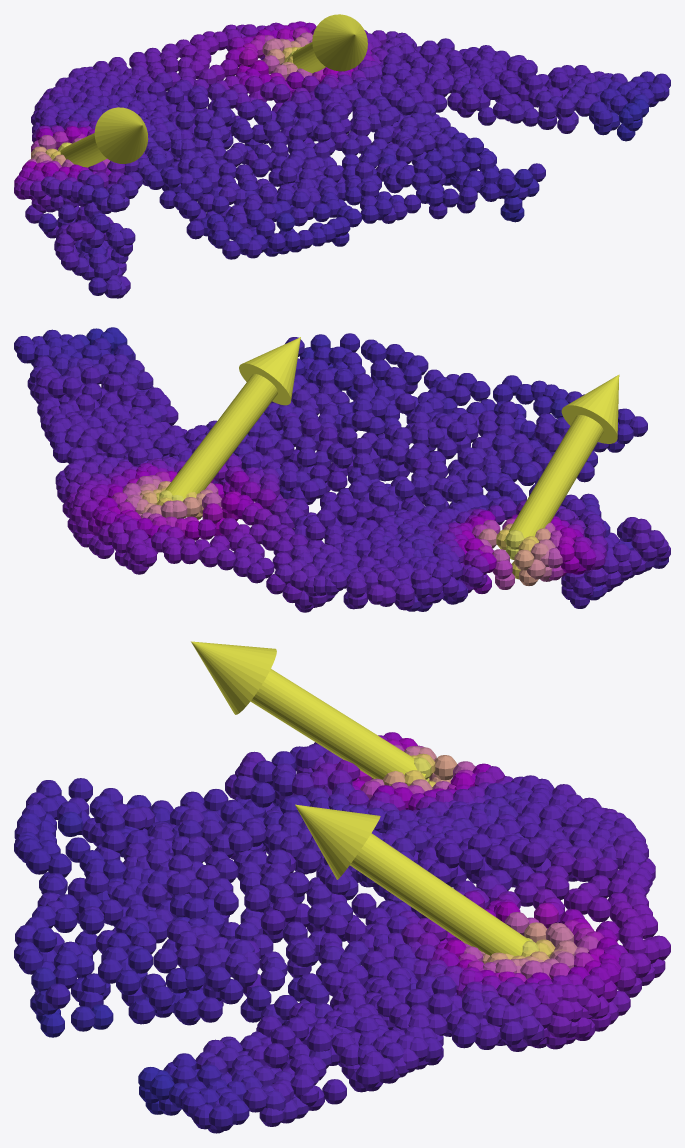
File: pred_heatmap_0.glb
3 renders of one model, top to bottom at view 1: azimuth 30°, elevation 25°; view 2: azimuth 150°, elevation 25°; view 3: azimuth 270°, elevation 25°, orthographic. The views are drawn at different scales.
Parts seen in each view (by area): view 1: world; view 2: world; view 3: world.
Boxes of the visible parts, <box> form: world: <box>14,14,670,298</box>; world: <box>14,327,670,611</box>; world: <box>14,641,670,1133</box>.
Size of the model in its own units: 1.45 by 0.404 by 1.02.
